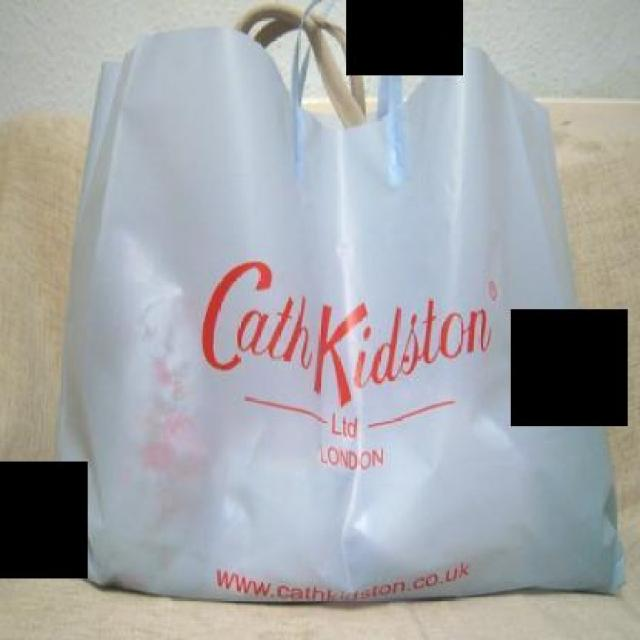plastic bag: (52, 0, 631, 602)
